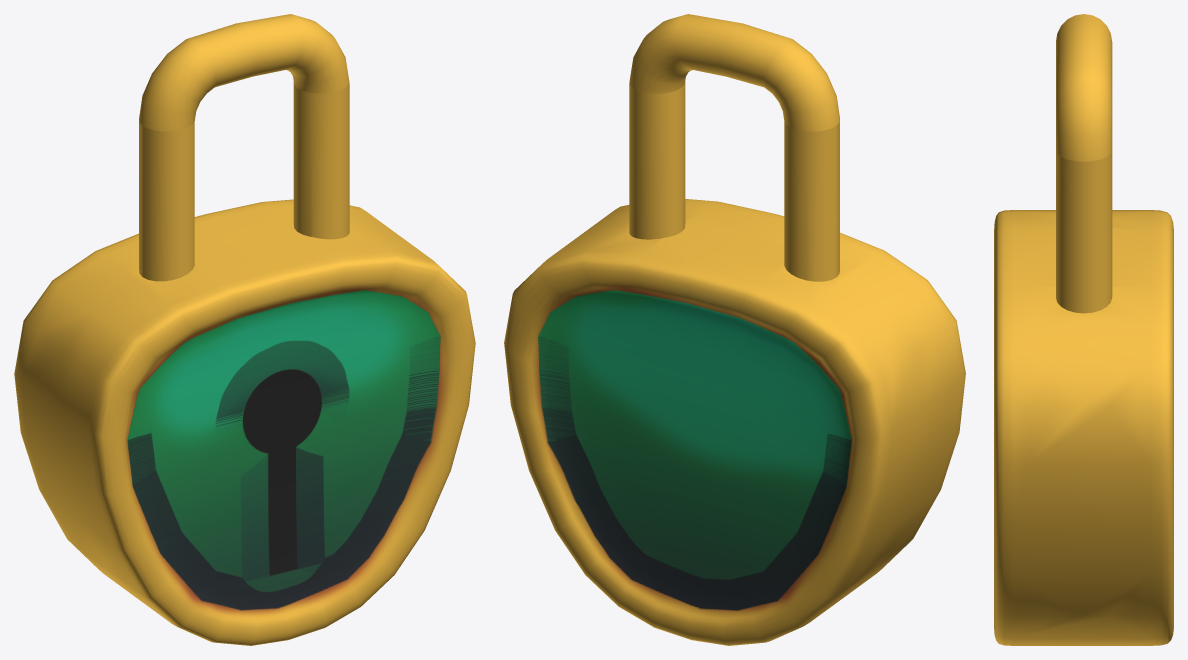
File: Lock.fbx
3 renders of one model, left to right at view 1: azimuth 30°, elevation 25°; view 2: azimuth 150°, elevation 25°; view 3: azimuth 270°, elevation 25°, orthographic.
Visible parts, largest first — view 1: Lock; view 2: Lock; view 3: Lock.
Part boxes in pixels (left/top/right/bottom): Lock: left=14, top=14, right=475, bottom=645; Lock: left=504, top=14, right=965, bottom=645; Lock: left=994, top=14, right=1173, bottom=645.
Bounding box in the file's own units: 29.18 × 42.89 × 11.85.
Materials: 1 (1 with a texture image).
